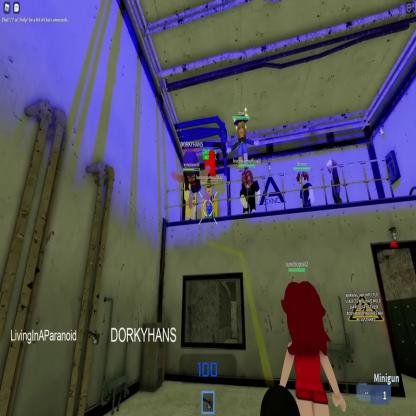Roblox-Avatar: (280, 282, 347, 416), (171, 150, 211, 209), (228, 108, 261, 172), (241, 169, 261, 215), (328, 160, 344, 206), (297, 172, 316, 209)
